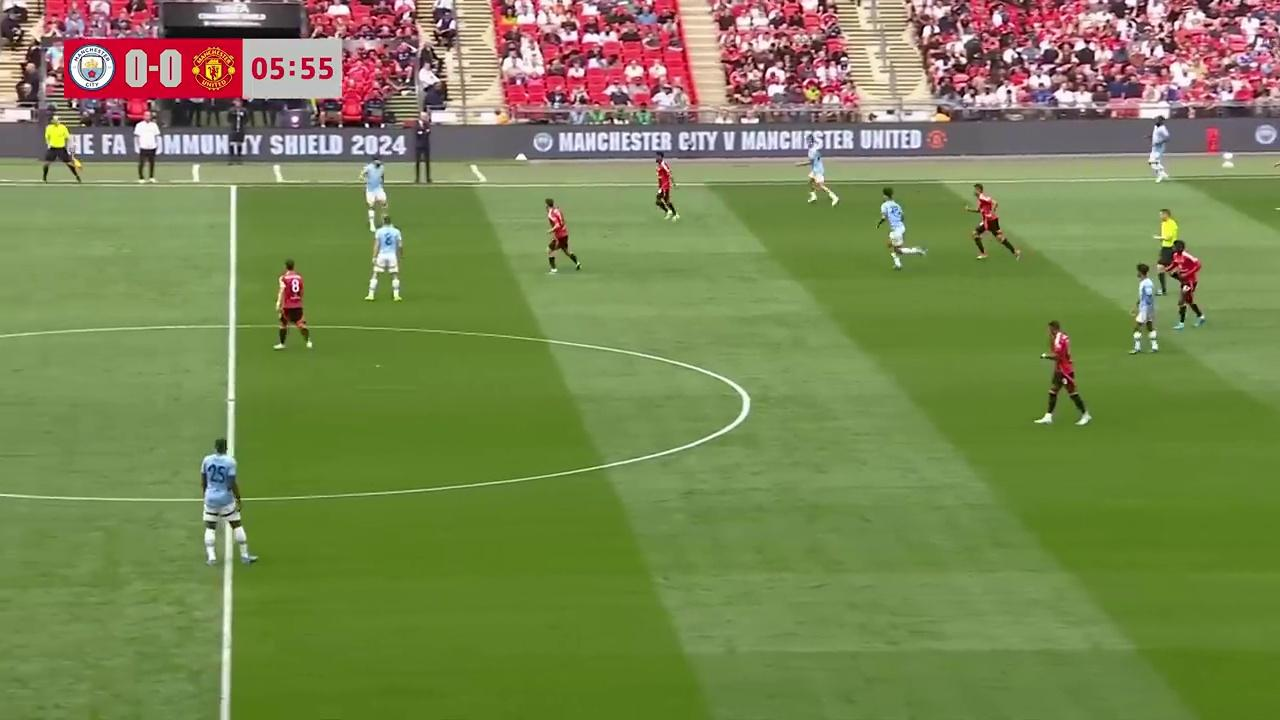player: (200, 436, 258, 567), (1033, 323, 1091, 426), (968, 187, 1021, 260), (273, 260, 313, 351), (364, 215, 404, 302), (878, 190, 919, 270), (1168, 243, 1205, 330), (1128, 263, 1160, 354), (544, 199, 581, 275), (805, 144, 839, 205), (360, 157, 390, 226), (1153, 208, 1179, 280), (654, 154, 679, 222), (1147, 123, 1169, 183)
referee: (43, 112, 81, 183), (1154, 208, 1179, 281)
